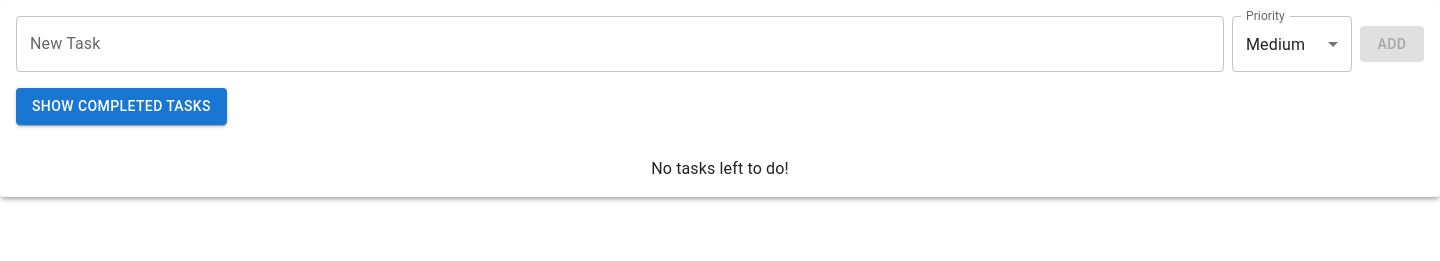
Test case: ToDoList Component › toggles task completion and filters tasks accordingly
# Add a task.
Type "Complete Task" into the field labelled "New Task" at point(620, 44), box [16,16,1224,72]
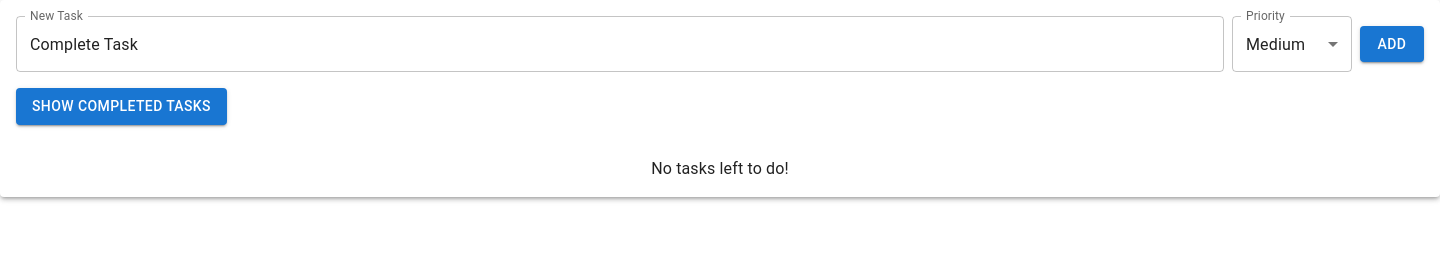
Click the button "Add" at point(1392, 44), box [1360,26,1424,62]
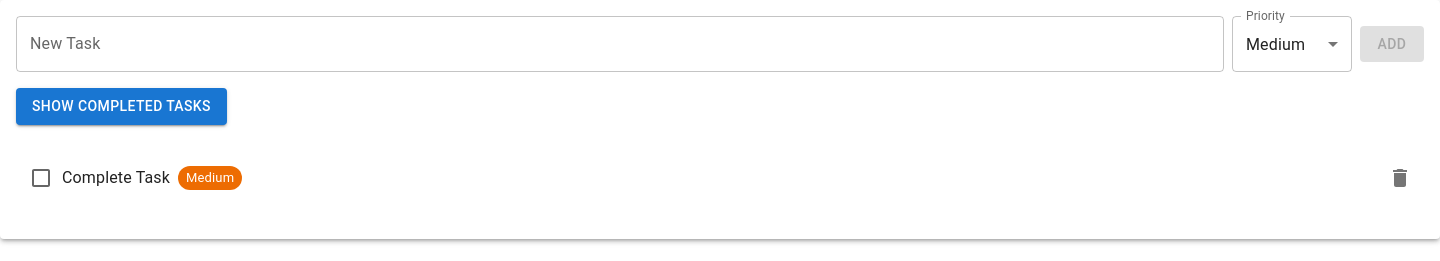
expect the text "Complete Task" is shown: met, box [62,166,170,190]
# Mark the task as complete by clicking its checkbox.
Click the checkbox at point(41, 178), box [29,166,53,190]
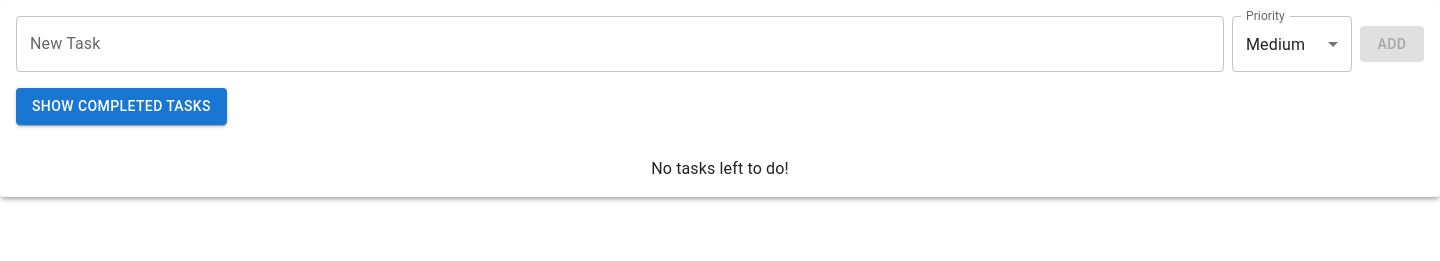
expect the text "Complete Task" is gone: met
# Click the toggle filter to show completed tasks.
Click the button "Show Completed Tasks" at point(121, 106), box [16,88,227,124]
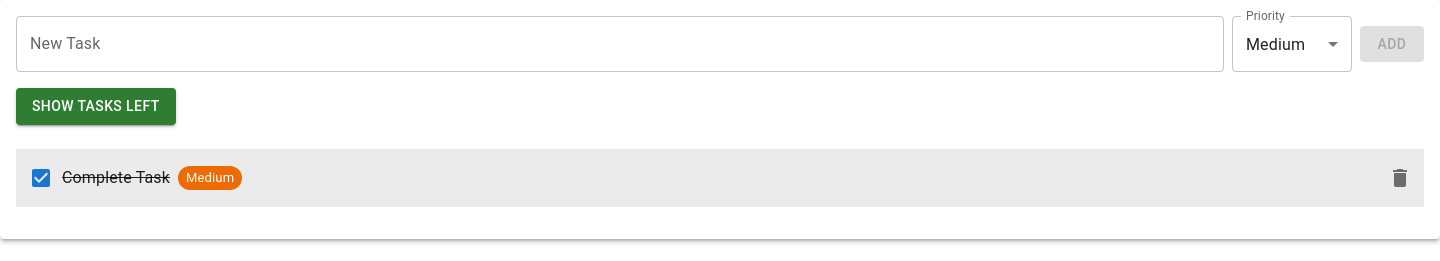
expect the text "Complete Task" is shown: met, box [62,166,170,190]
